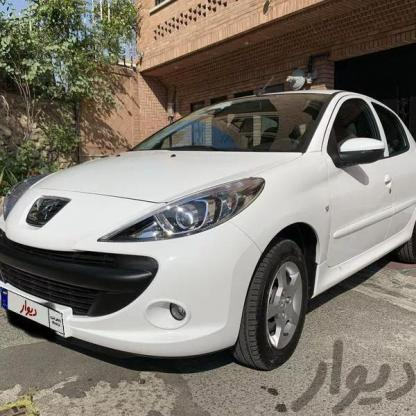Car: (0, 84, 416, 372)
